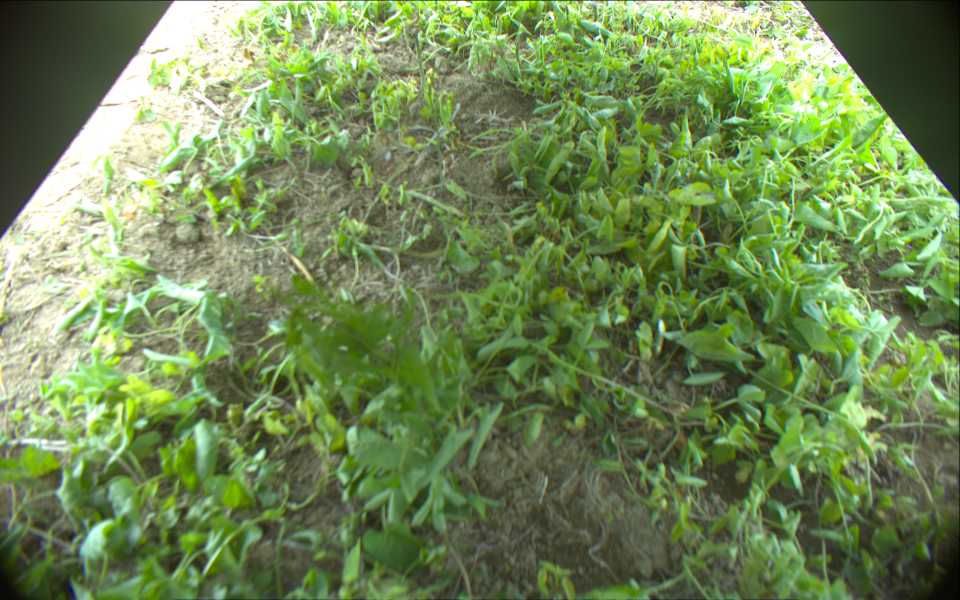aspa: (412, 29, 427, 87)
